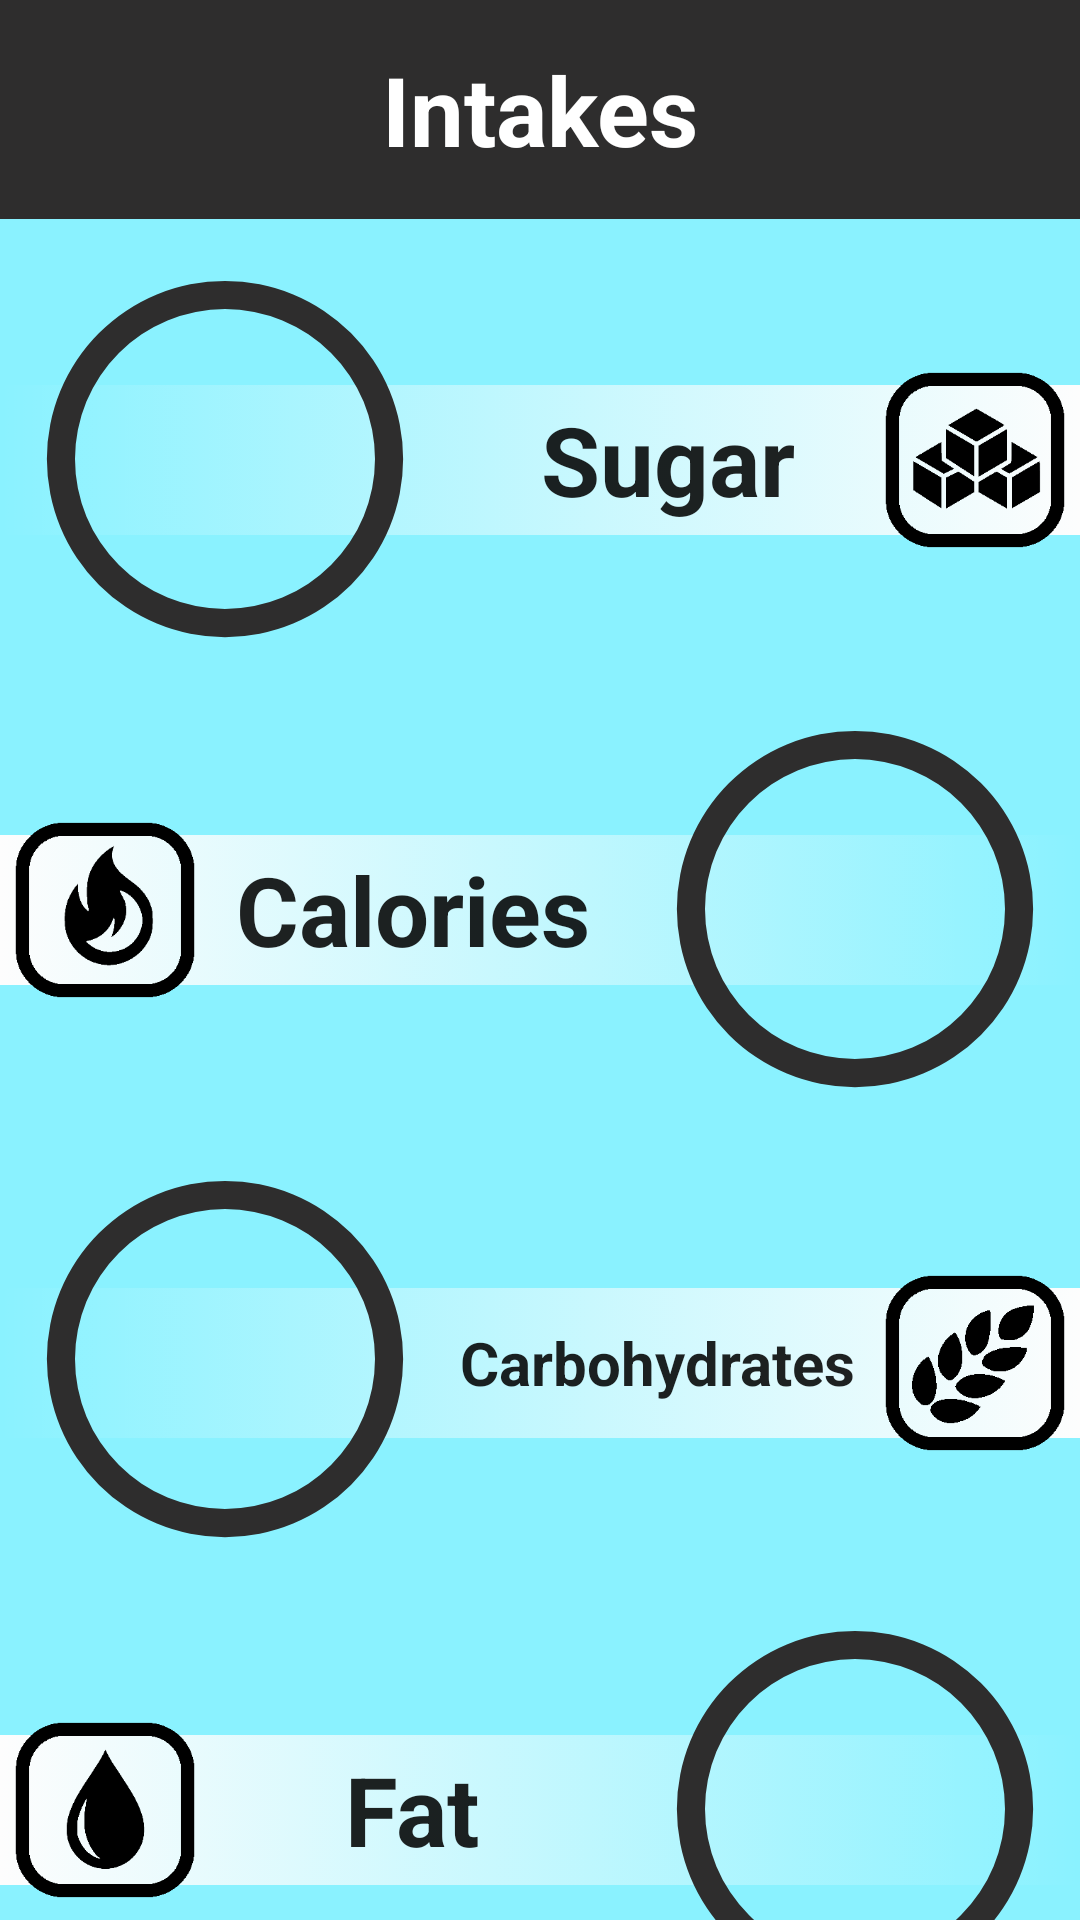

Named icons in this screenshot (1080w x 1920h) and their centers, point (x, y):
cal: point (105, 910)
sug: point (975, 460)
